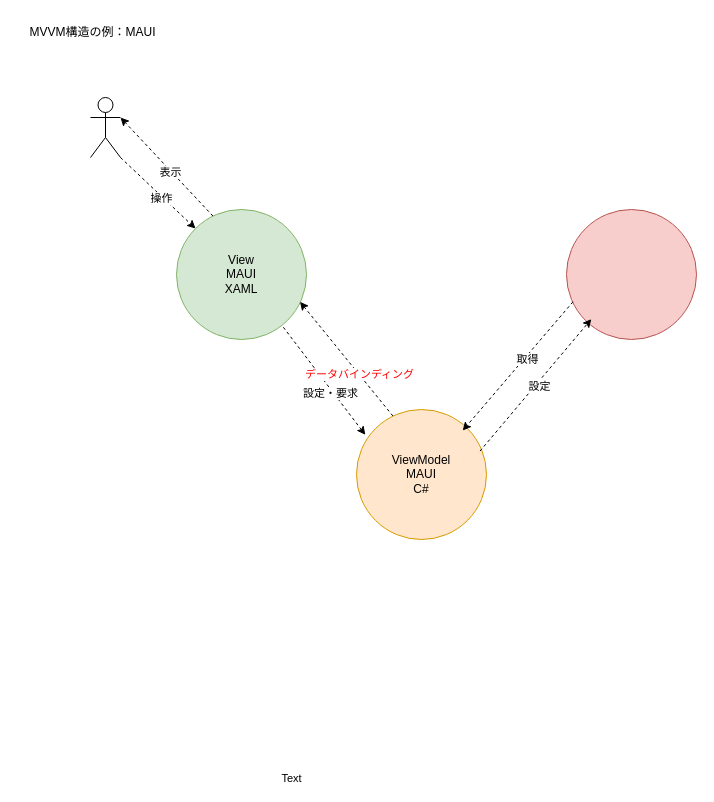
Some shapes in this 714 by 802 pixel diagram are drawn without their labels. Each missing label, with the centre of its shape:
"Actor" goes at point 105,127.
"Model MAUI C#" goes at point 631,274.
